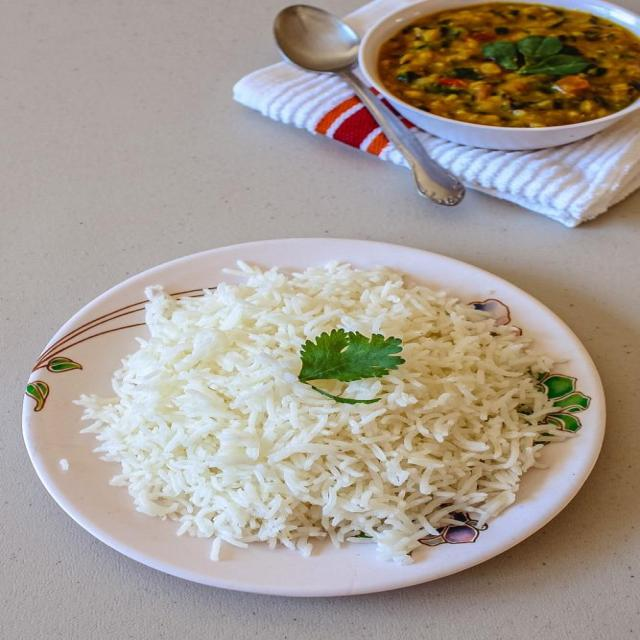rice: (118, 260, 551, 565)
